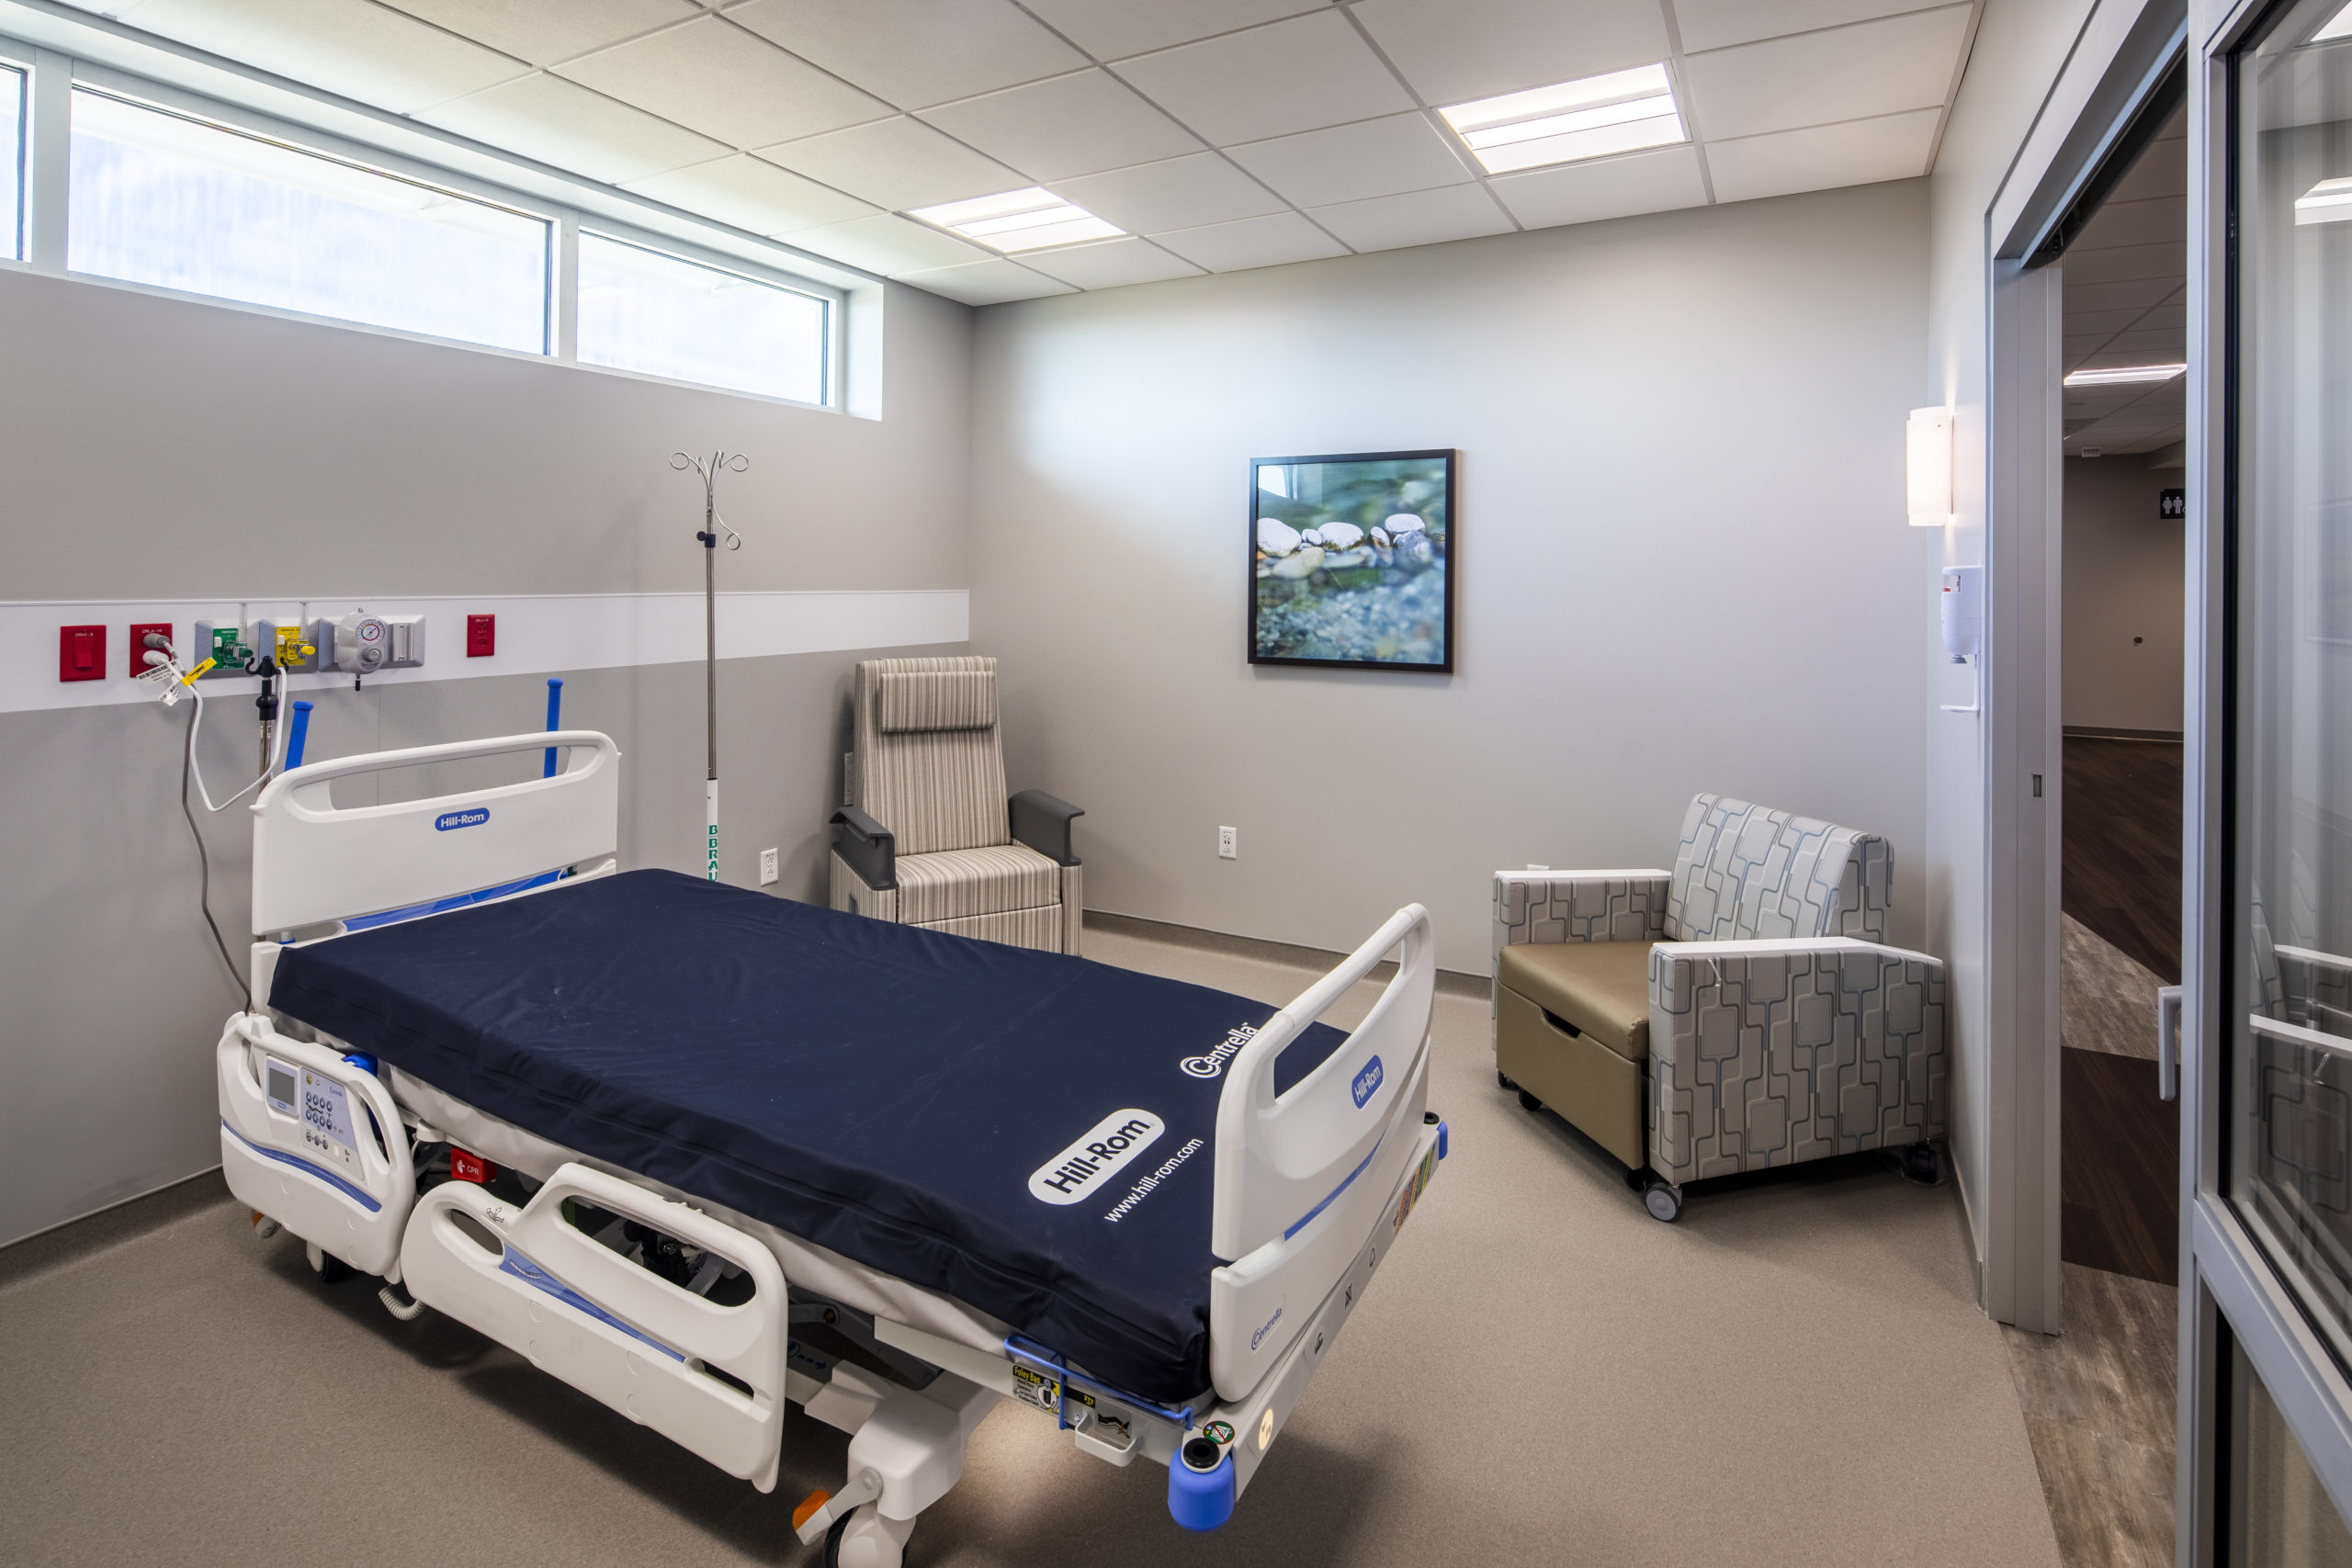bedrail: (399, 1162, 787, 1493), (215, 1012, 416, 1283)
dispenser: (1927, 555, 1986, 733)
door_handle: (2158, 985, 2182, 1101)
foot_board: (1209, 903, 1447, 1402)
hospital_bed: (215, 730, 1447, 1568)
iv_pole: (668, 450, 747, 882)
sofa: (1491, 793, 1948, 1223), (829, 656, 1083, 957)
